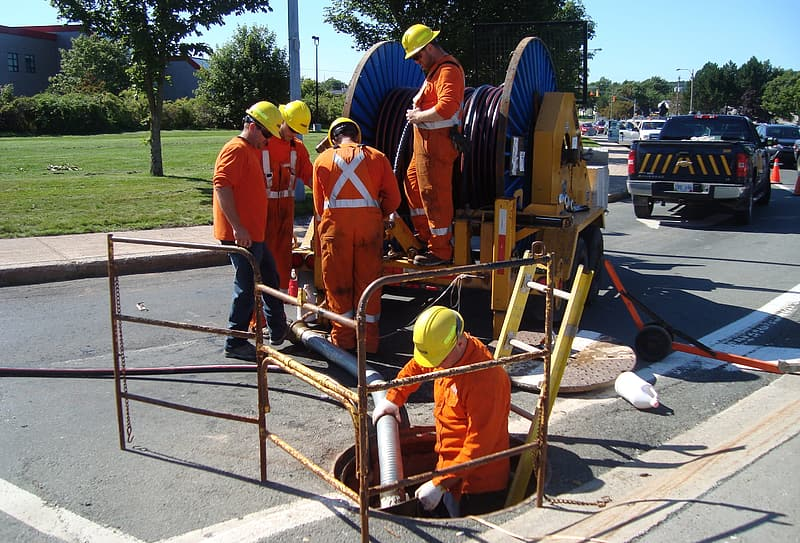Hard Hat: (406, 307, 471, 370), (398, 25, 445, 76), (241, 101, 284, 143), (280, 100, 313, 141), (326, 118, 364, 150)
Person: (376, 309, 511, 511), (316, 119, 395, 355), (216, 106, 282, 356), (403, 25, 468, 268), (276, 100, 313, 302)
